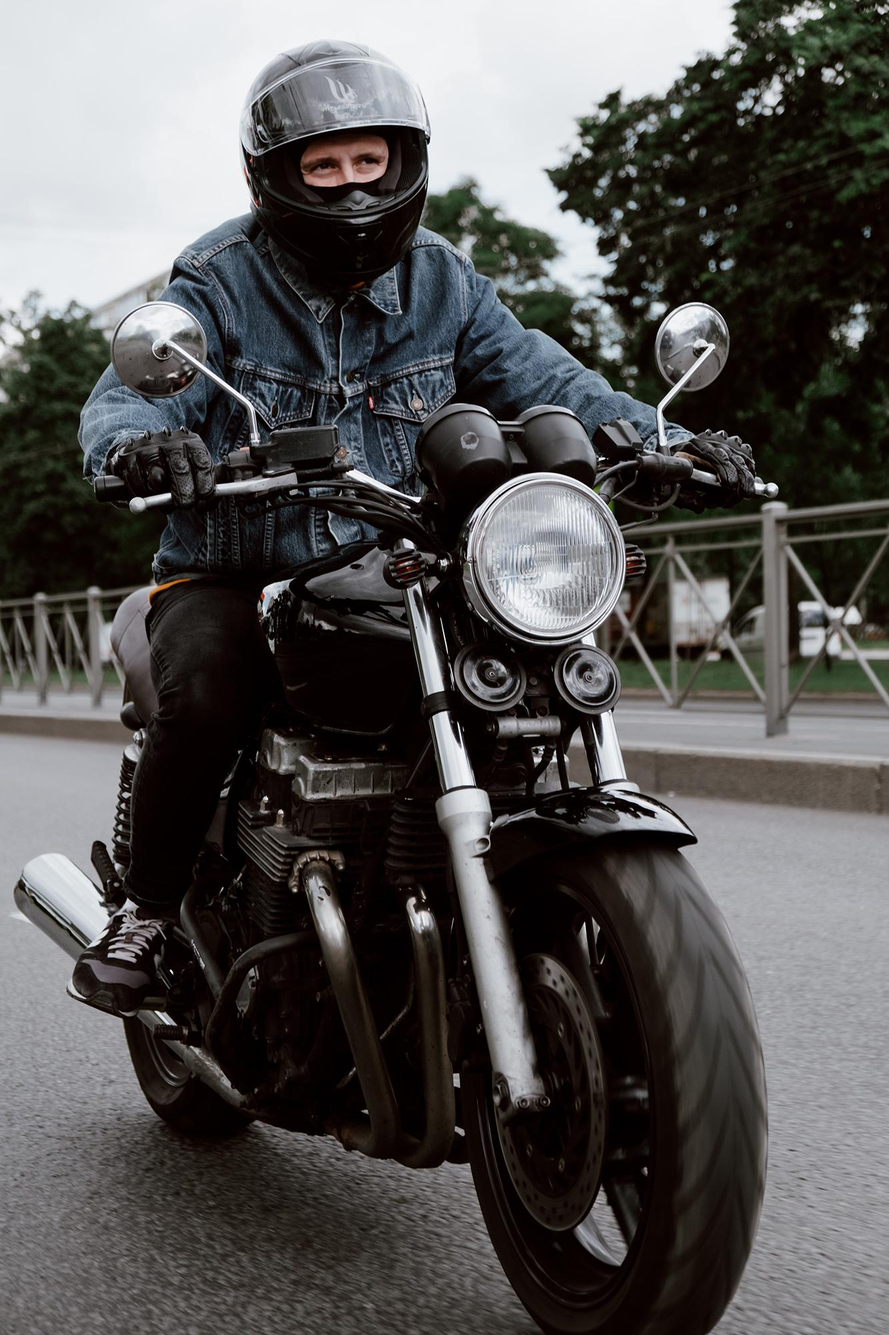helmet: (239, 37, 433, 284)
